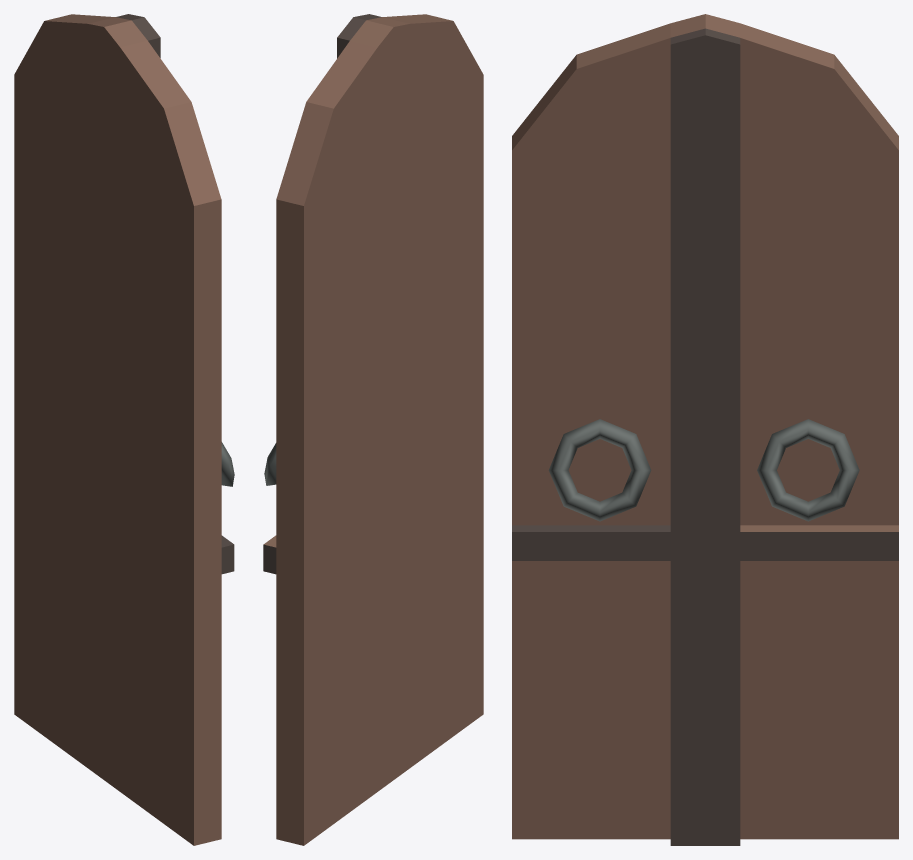
File: Window Closed.fbx
3 views of the same model, side by side, from view 1: azimuth 30°, elevation 25°; view 2: azimuth 150°, elevation 25°; view 3: azimuth 270°, elevation 25° (orthographic). The views are drawn at different scales.
Parts seen in each view (by area): view 1: Window Closed; view 2: Window Closed; view 3: Window Closed.
Part boxes in pixels (left/top/right/bottom): Window Closed: left=14, top=14, right=234, bottom=845; Window Closed: left=263, top=14, right=483, bottom=845; Window Closed: left=512, top=14, right=898, bottom=845.
Size of the model in its own units: 228 by 528 by 52.57.
